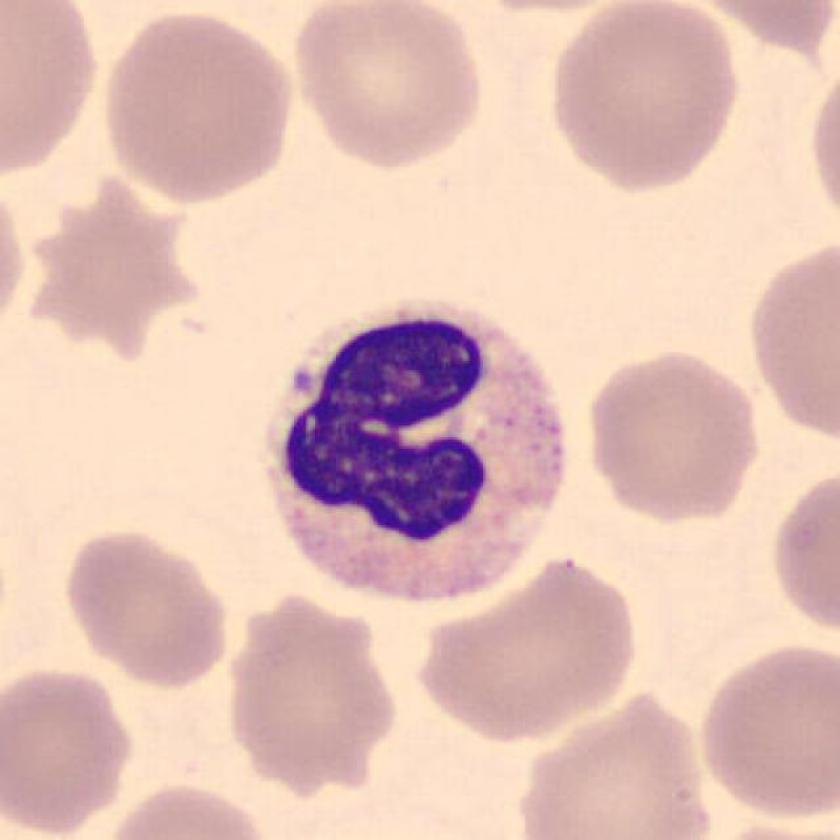neutrophil: (268, 303, 562, 598)
